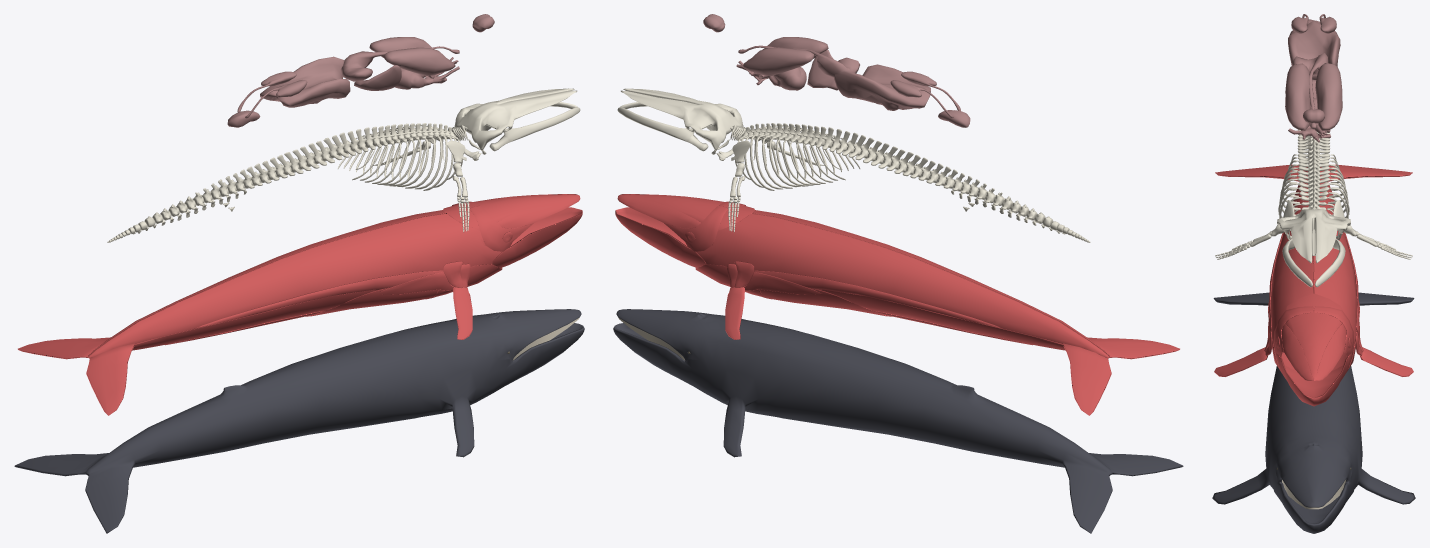
File: WhallyTheExpanded.fbx
3 renders of one model, left to right at view 1: azimuth 30°, elevation 25°; view 2: azimuth 150°, elevation 25°; view 3: azimuth 270°, elevation 25°, orthographic. The views are drawn at different scales.
Parts seen in each view (by area): view 1: Walter, Back (×2), TailFin (×2), Cranium, MiddleTail, Bowels, BottomLip, SmallMiddleTail, Head, LungR, Belly, UpperLipD (+8 smaller); view 2: Walter, Back (×2), TailFin (×2), Cranium, Bowels, MiddleTail, BottomLip, SmallMiddleTail, Head, LungL, Belly, UpperLipD (+7 smaller); view 3: Walter, Back (×2), Head, Cranium, UpperLipD (×2), Bowels, BottomLip, TailFin (×2), LungL, LungR, Fin (×2), JawEyeD (×2) (+8 smaller).
Boxes of the visible parts, box(x1,y1,x2,y2) form: Walter: box(14, 309, 584, 533); Back (×2): box(88, 210, 501, 358); TailFin (×2): box(18, 337, 134, 415); Cranium: box(454, 88, 577, 150); MiddleTail: box(89, 289, 376, 358); Bowels: box(260, 56, 350, 107); BottomLip: box(492, 207, 582, 267); SmallMiddleTail: box(196, 270, 443, 328); Head: box(442, 194, 575, 230); LungR: box(384, 47, 455, 75); Belly: box(306, 287, 437, 316); UpperLipD: box(497, 195, 580, 228); Walter: box(613, 309, 1183, 533); Back (×2): box(696, 210, 1109, 358); TailFin (×2): box(1063, 337, 1179, 415); Cranium: box(620, 88, 743, 150); Bowels: box(834, 64, 930, 110); MiddleTail: box(821, 289, 1108, 358); BottomLip: box(615, 207, 705, 267); SmallMiddleTail: box(754, 270, 1001, 328); Head: box(622, 194, 755, 230); LungL: box(742, 47, 813, 75); Belly: box(760, 287, 891, 316); UpperLipD: box(617, 195, 700, 228); Walter: box(1212, 292, 1415, 533); Back (×2): box(1270, 167, 1357, 353); Head: box(1284, 293, 1343, 378); Cranium: box(1277, 209, 1350, 263); UpperLipD (×2): box(1282, 323, 1345, 380); Bowels: box(1288, 20, 1340, 79); BottomLip: box(1275, 353, 1352, 406); TailFin (×2): box(1215, 164, 1412, 181); LungL: box(1315, 63, 1342, 130); LungR: box(1285, 63, 1310, 130); Fin (×2): box(1214, 347, 1413, 376); JawEyeD (×2): box(1274, 306, 1353, 356).
Size of the model in its own units: 35.36 by 25.2 by 10.97.
